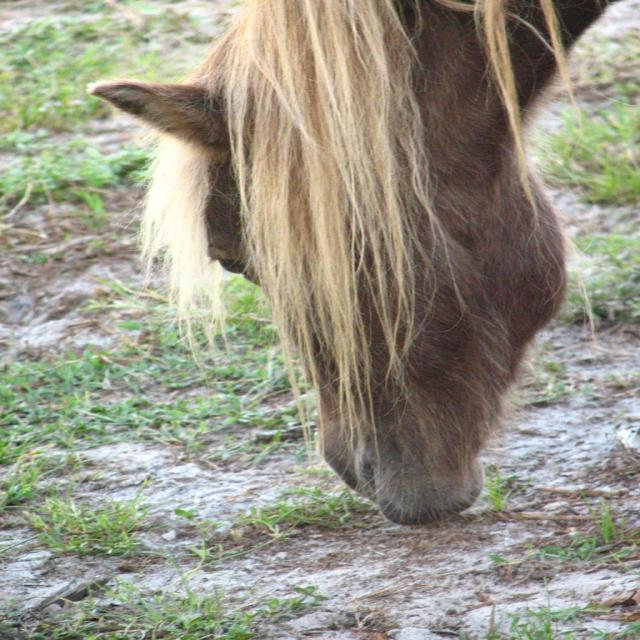Horse: (86, 1, 628, 523)
